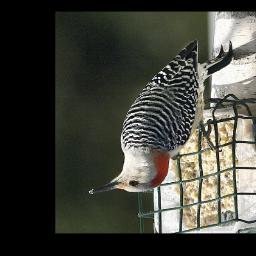Woodpecker: (88, 39, 233, 195)
